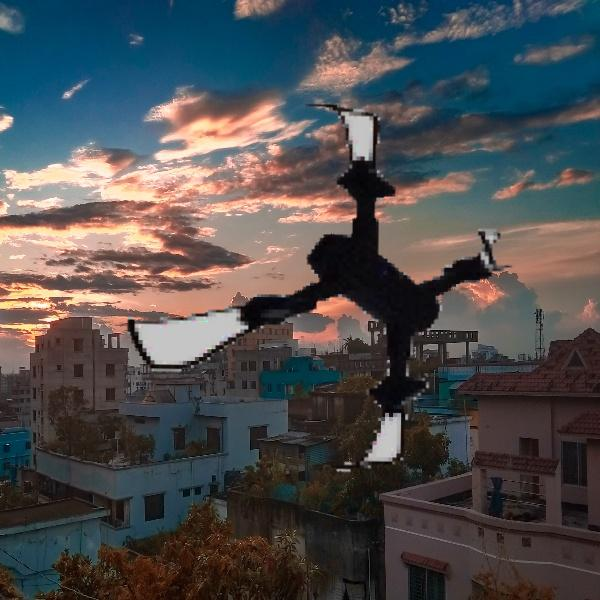drone: (116, 88, 522, 494)
